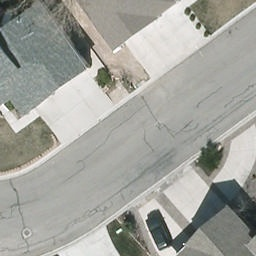car: (145, 214, 170, 250)
